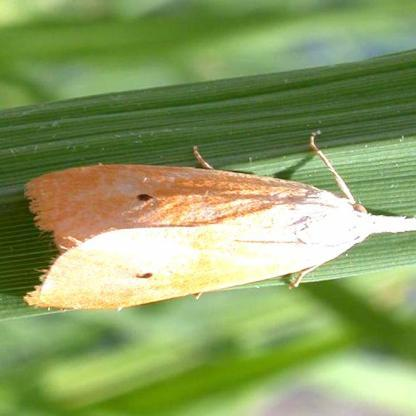stem-borer: (19, 158, 416, 314)
